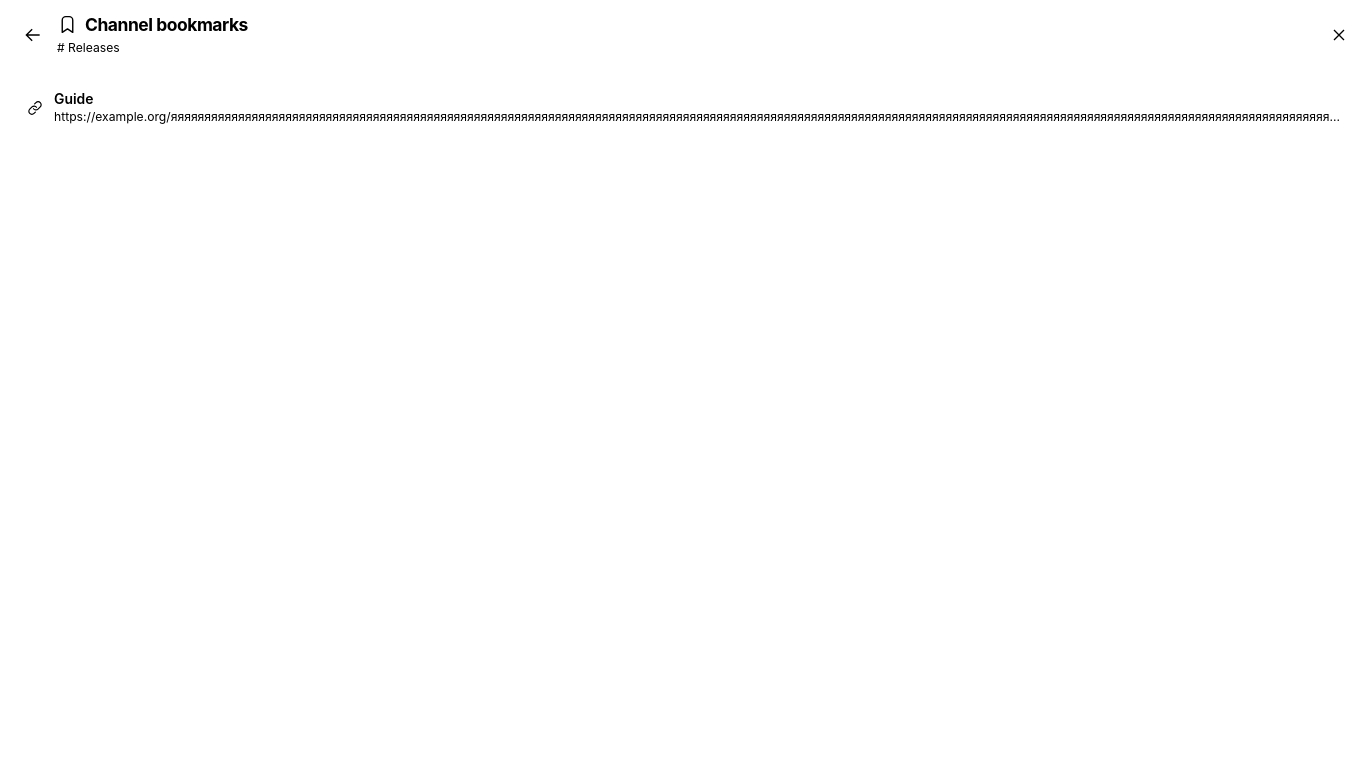
renames a link without revalidating or writing its unchanged Unicode address
The image size is (1366, 768).
Click the button "Guide": (683, 108) x1=16 y1=82 x2=1350 y2=133
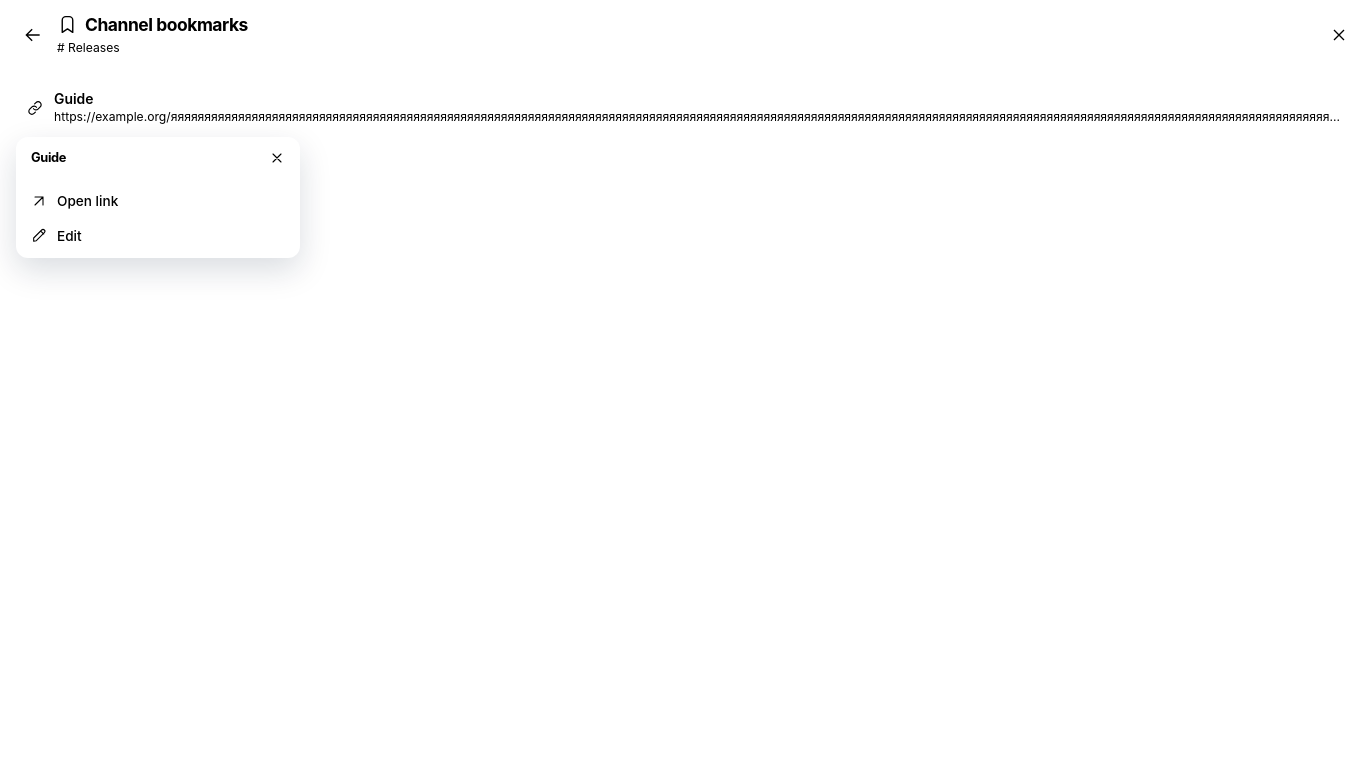
Click the button "Edit": (39, 236) x1=21 y1=218 x2=295 y2=253
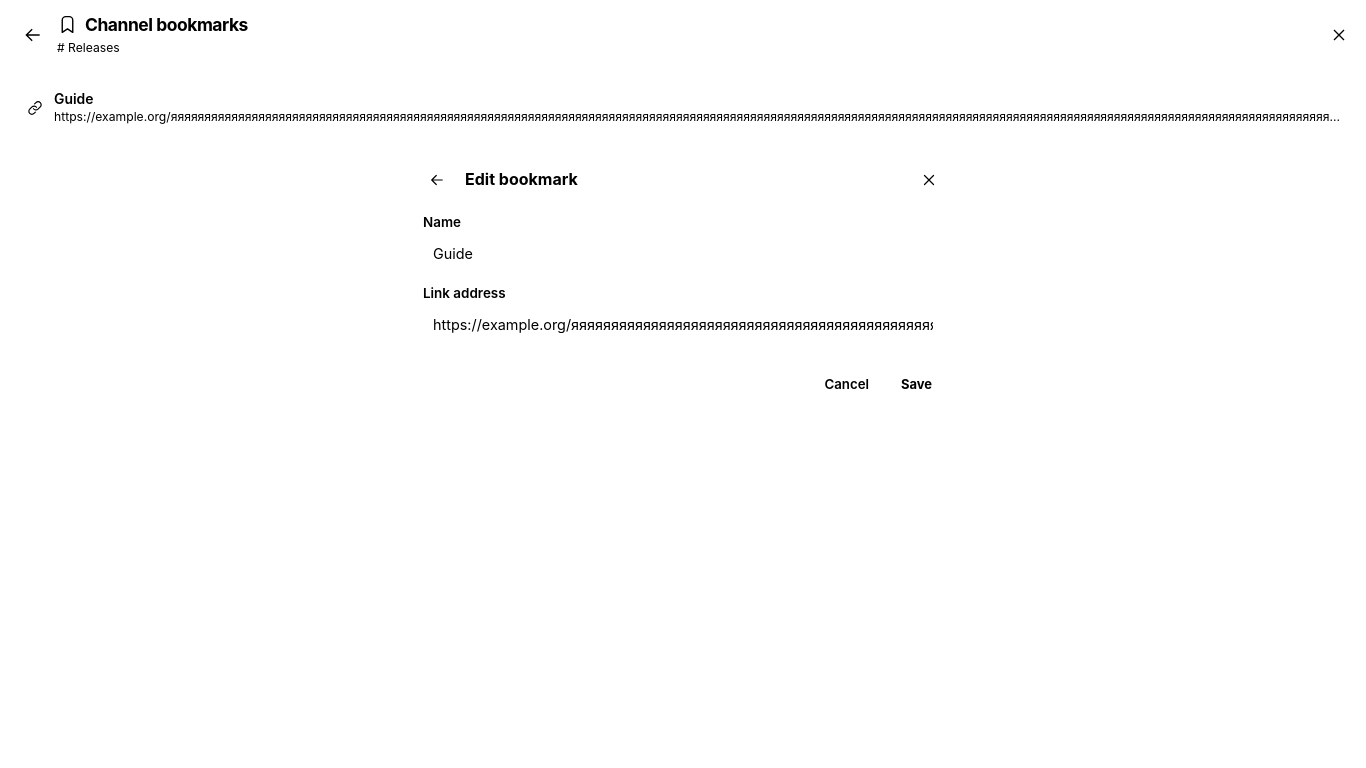
Replace the text in the field labelled "Name" with "Updated guide": (683, 254) x1=423 y1=236 x2=943 y2=271
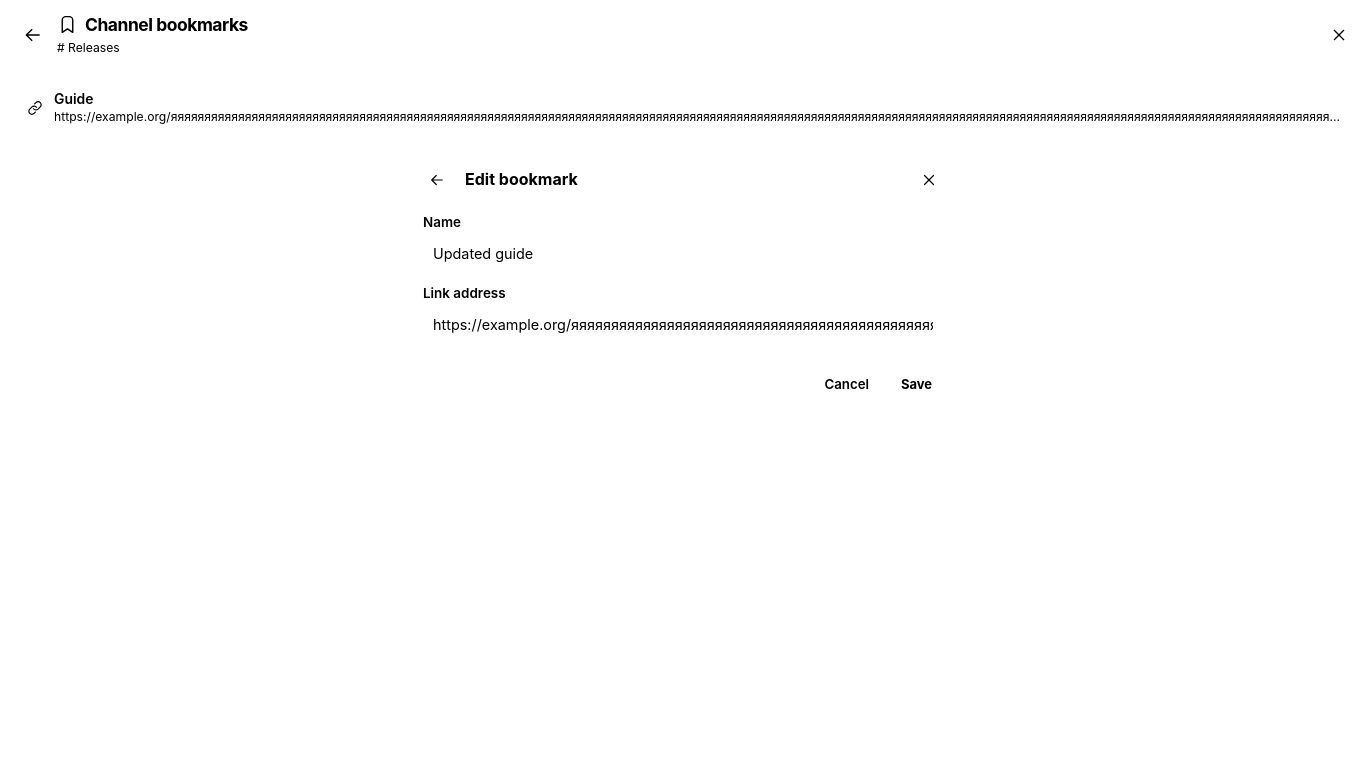
Click the button "Save": (916, 384) x1=890 y1=369 x2=943 y2=399
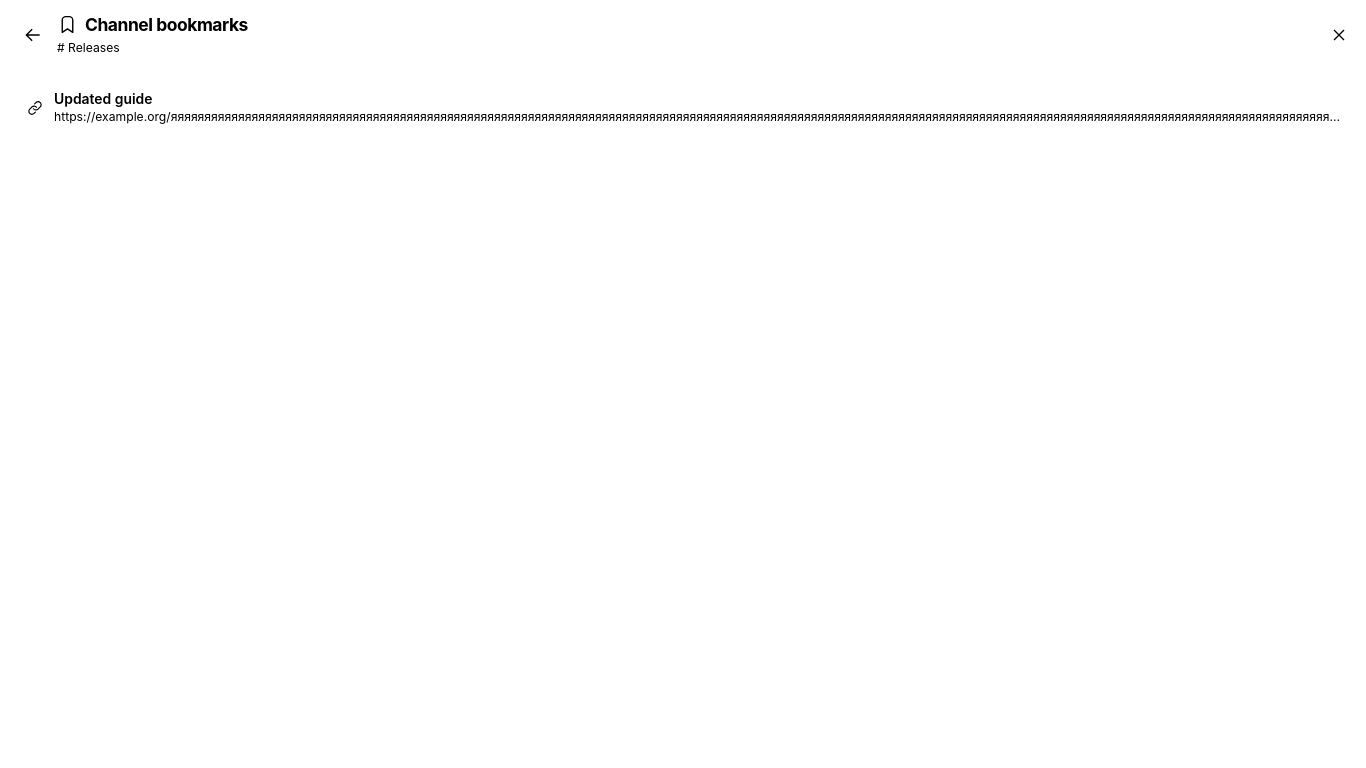
Now the heading "Edit bookmark" is gone
